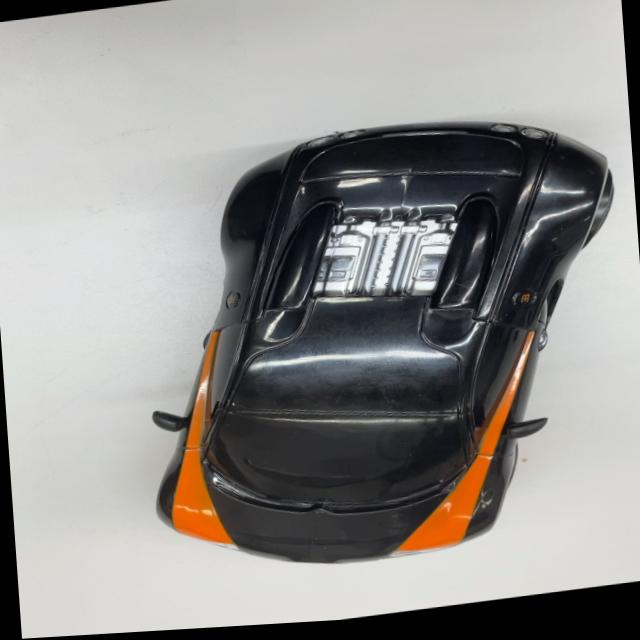vehicle_body: (129, 93, 640, 593)
